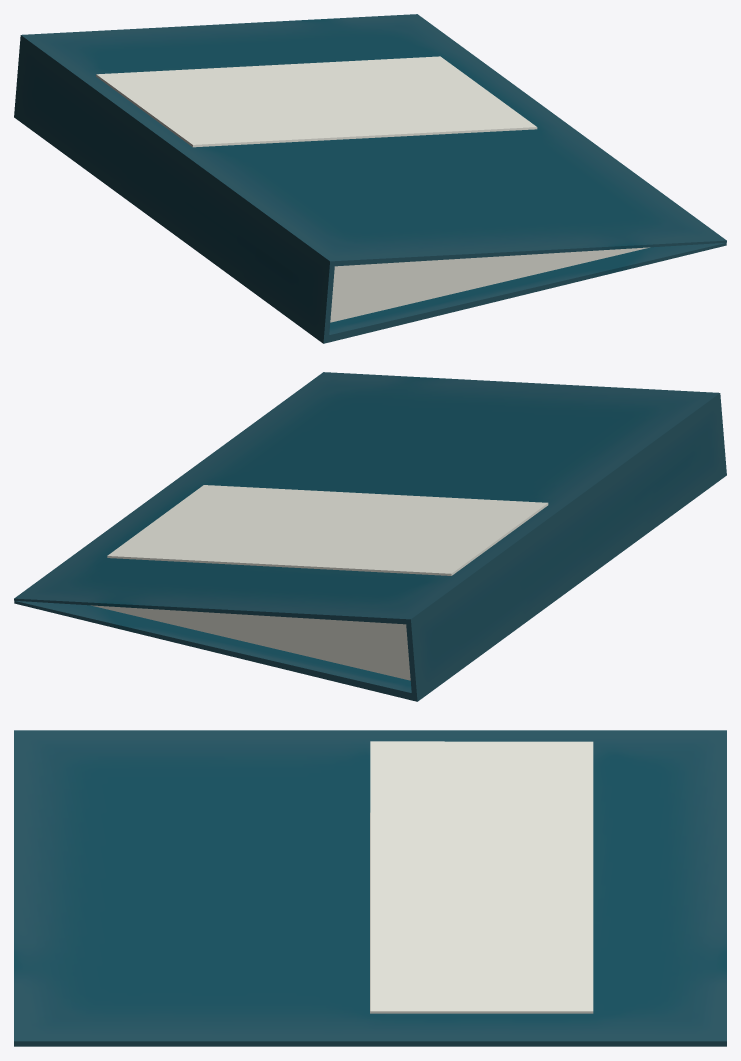
File: FileFolderD.fbx
The picture shows the model from 3 angles, top to bottom: view 1: azimuth 30°, elevation 25°; view 2: azimuth 150°, elevation 25°; view 3: azimuth 270°, elevation 25°; orthographic projection. The views are drawn at different scales.
Parts seen in each view (by area): view 1: FileFolderD; view 2: FileFolderD; view 3: FileFolderD.
Boxes of the visible parts, bbox=[...] form: FileFolderD: bbox=[14, 14, 726, 343]; FileFolderD: bbox=[14, 372, 726, 701]; FileFolderD: bbox=[14, 730, 726, 1046].
Bounding box in the file's own units: 26.95 × 5.16 × 35.8.
1 material, 1 textured.
